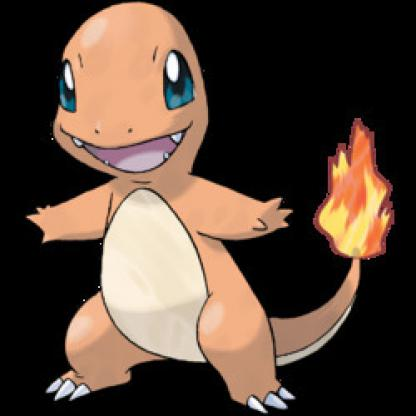Charmander: (1, 4, 416, 416)
